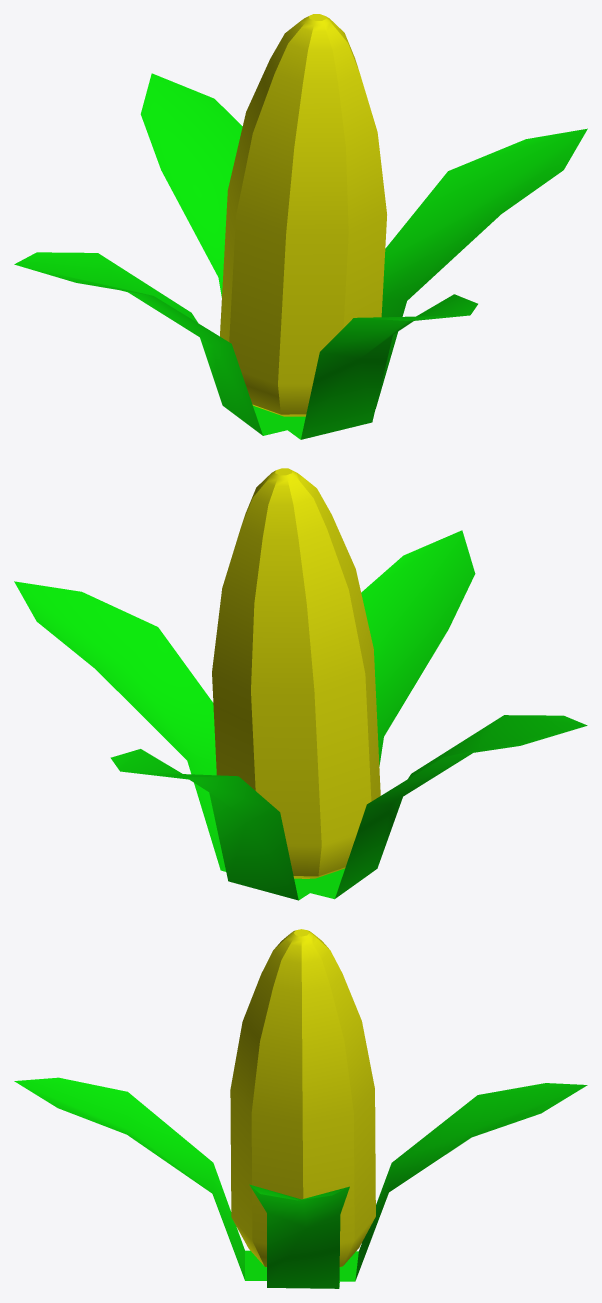
File: Corn.fbx
The picture shows the model from 3 angles, top to bottom: view 1: azimuth 30°, elevation 25°; view 2: azimuth 150°, elevation 25°; view 3: azimuth 270°, elevation 25°; orthographic projection. The views are drawn at different scales.
Parts seen in each view (by area): view 1: pCube42; view 2: pCube42; view 3: pCube42.
Part boxes in pixels (x1=…): pCube42: x1=14, y1=14, x2=587, y2=439; pCube42: x1=14, y1=468, x2=587, y2=900; pCube42: x1=14, y1=929, x2=587, y2=1288.
Bounding box in the file's own units: 7.96 × 5.18 × 7.94.
